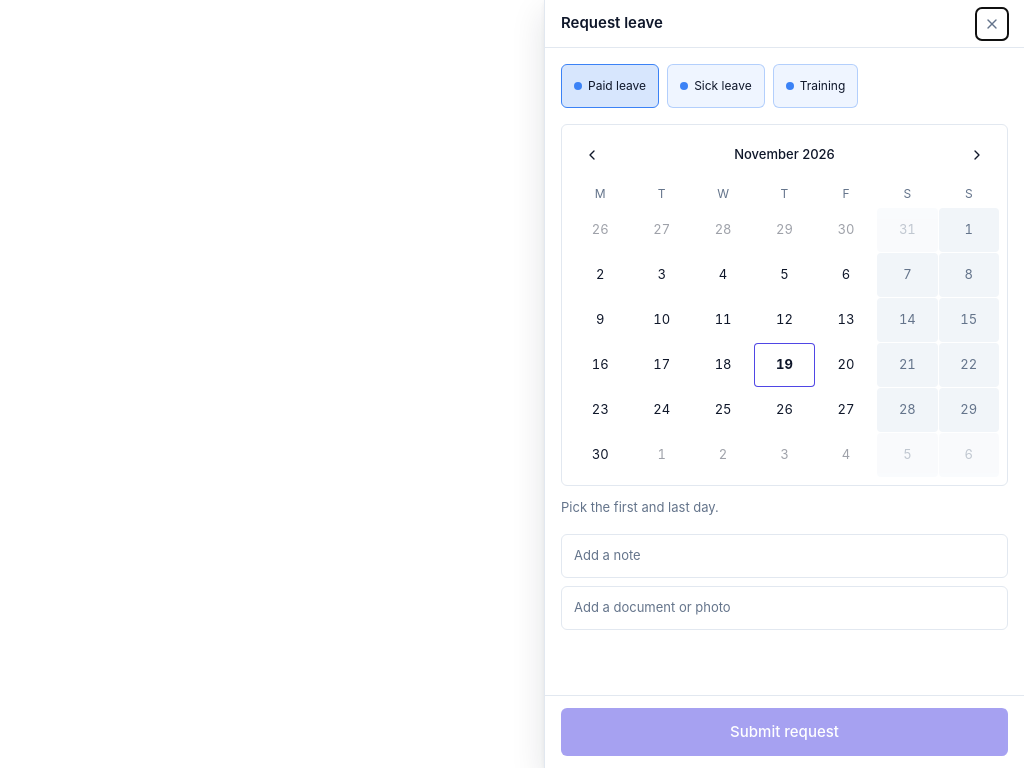
Test: RequestSheet › disables Submit on a blocking conflict and shows the message
Click the button "16" at (600, 365), box [570, 343, 630, 387]
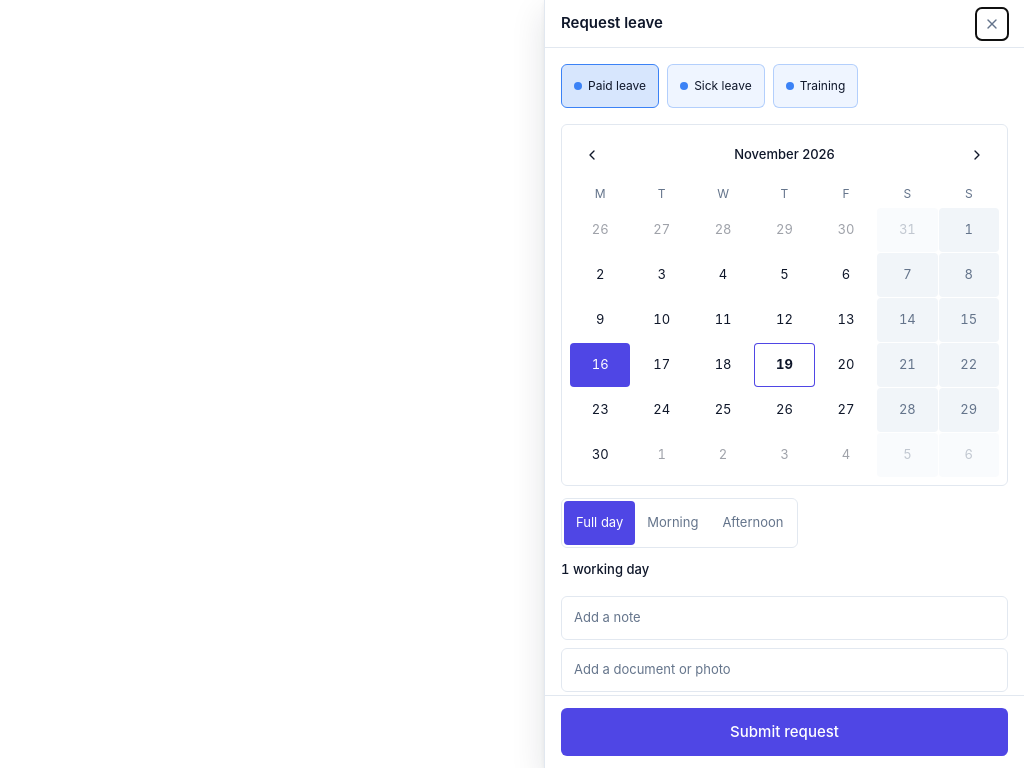
Click the button "17" at (662, 365), box [631, 343, 692, 387]
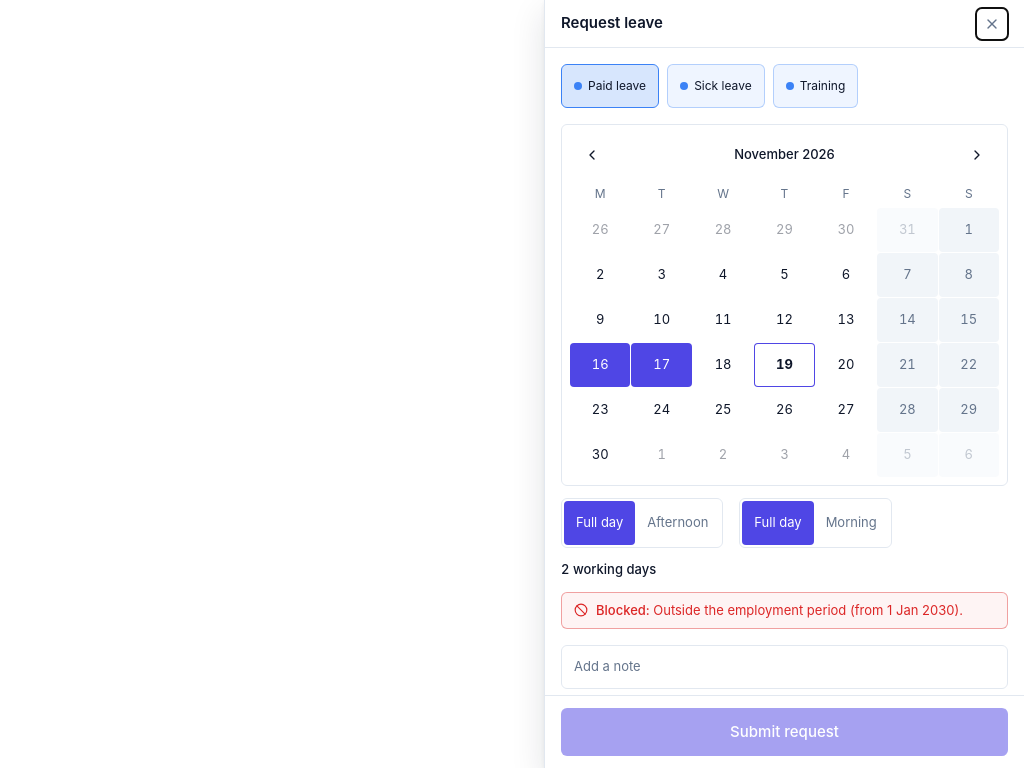
Now the text "2 working days" is shown, box [561, 561, 656, 577]
Now the text "Blocked: Outside the employment period (from 1 Jan 2030)." is shown, box [596, 600, 995, 620]
Now the button "Submit request" is disabled, box [561, 708, 1008, 756]
